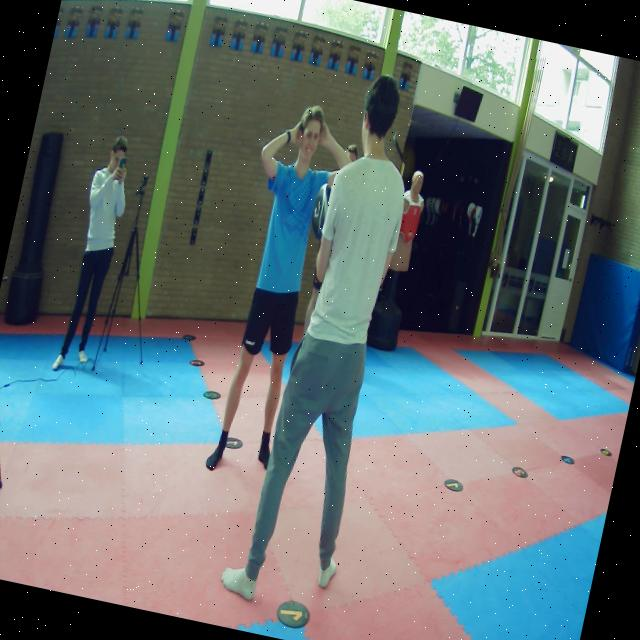paddle: (311, 183, 331, 240)
